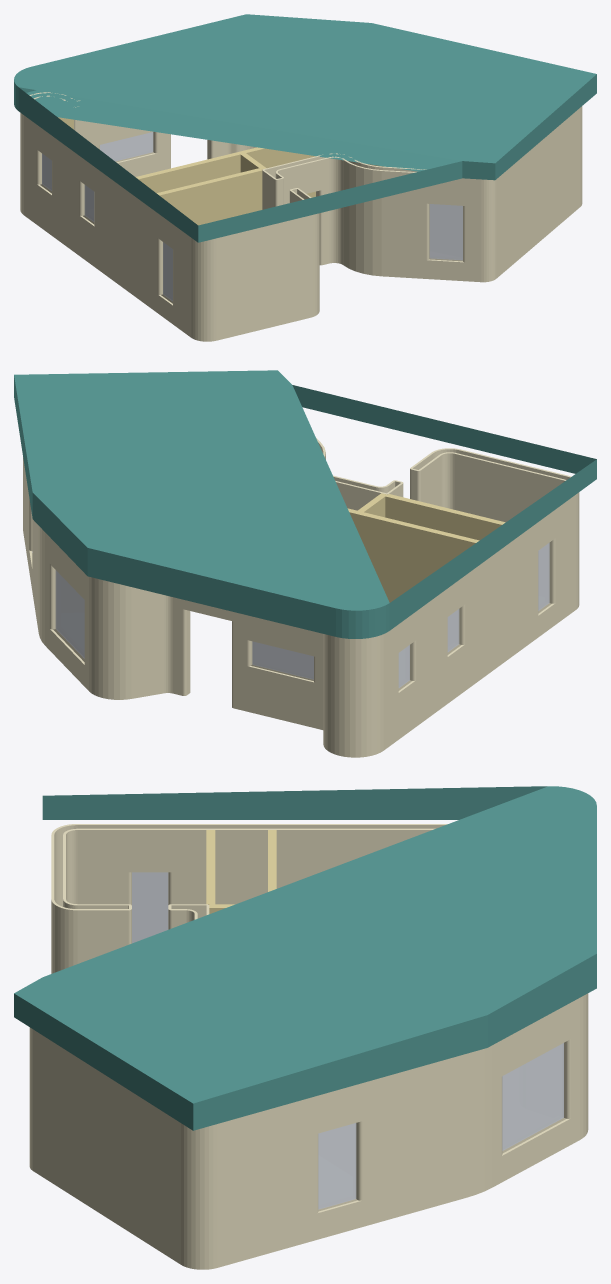
The model's file is Mark9.glb.
The picture shows the model from 3 angles, top to bottom: view 1: azimuth 30°, elevation 25°; view 2: azimuth 150°, elevation 25°; view 3: azimuth 270°, elevation 25°; orthographic projection. The views are drawn at different scales.
Bounding box in the file's own units: 41.89 × 11.53 × 33.22.
